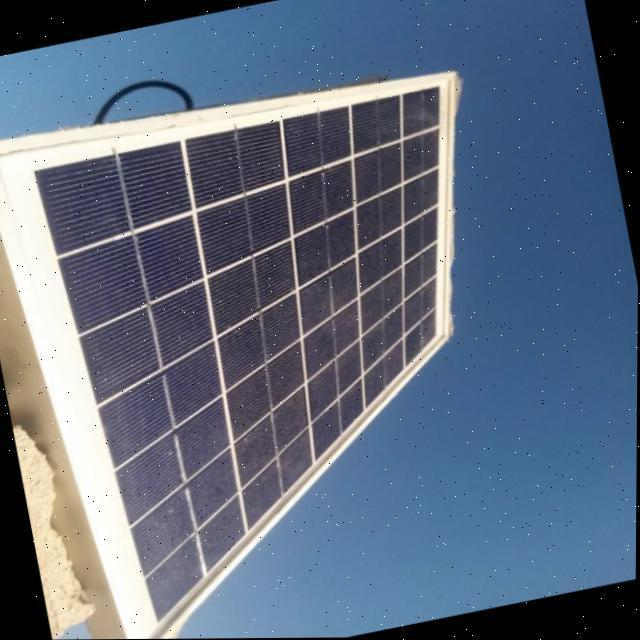Normal Solar Panel: (0, 51, 553, 640)
